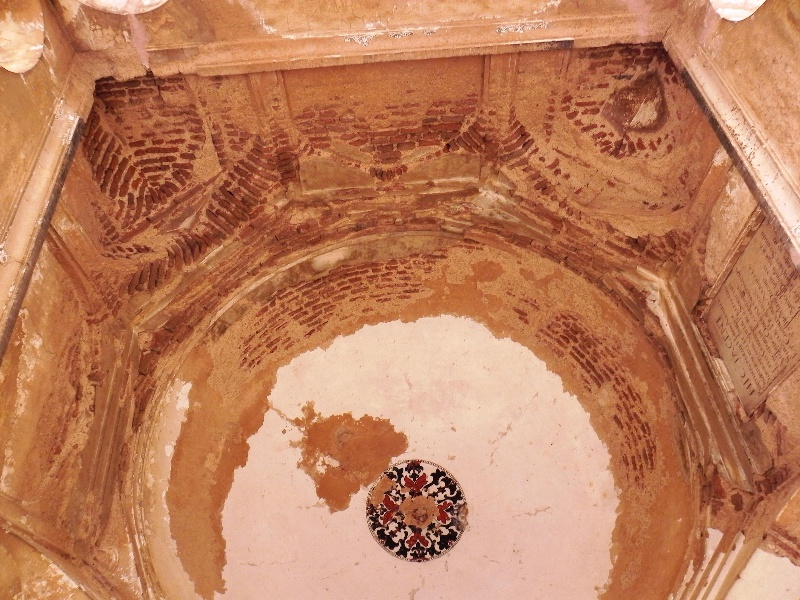Exposed Bricks: (92, 84, 269, 272), (280, 97, 540, 191), (242, 251, 448, 364), (545, 306, 662, 485)
